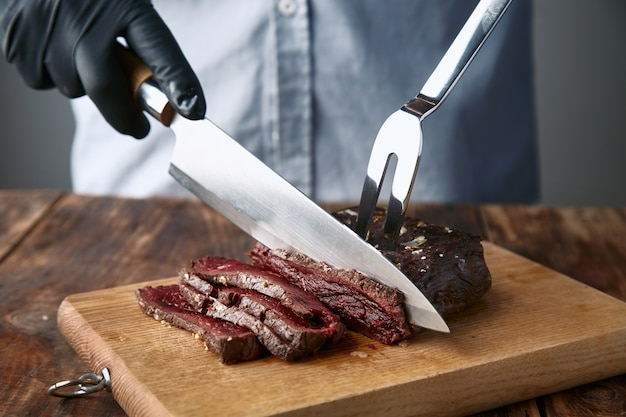knife: (118, 40, 455, 334)
